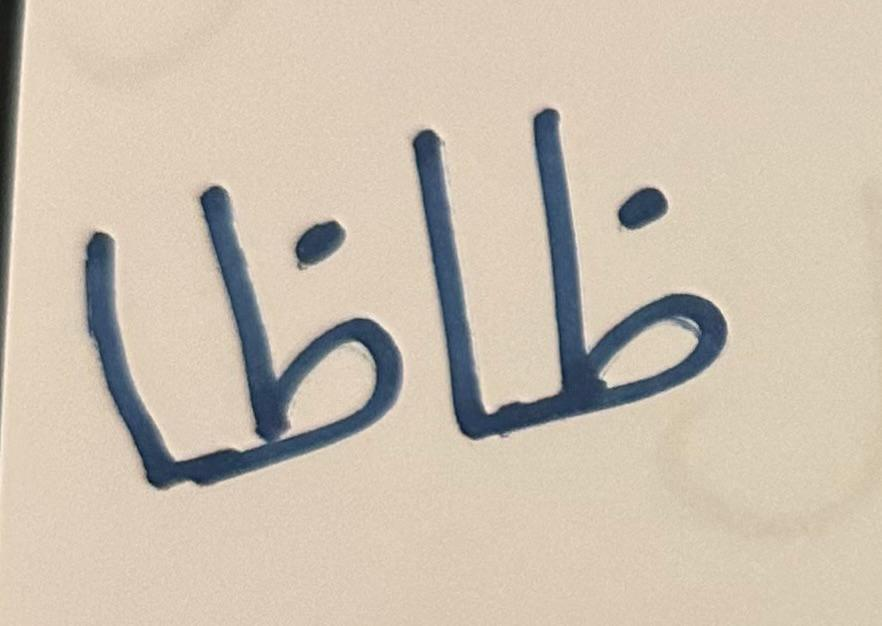alef: (46, 134, 166, 544), (411, 89, 498, 474)
zain: (503, 86, 774, 472), (171, 138, 408, 498)
